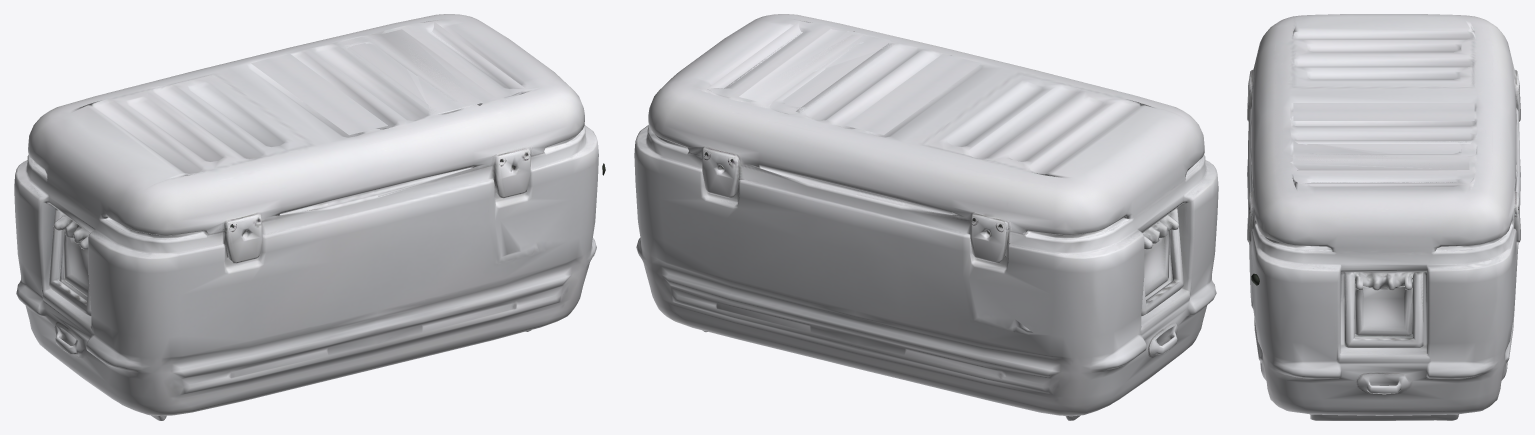
File: White_Igloo_cooler_20InchesTall_0222030005_texture.glb
3 views of the same model, side by side, from view 1: azimuth 30°, elevation 25°; view 2: azimuth 150°, elevation 25°; view 3: azimuth 270°, elevation 25° (orthographic). The views are drawn at different scales.
Visible parts, largest first — view 1: Mesh_0; view 2: Mesh_0; view 3: Mesh_0.
Boxes of the visible parts, x1=… form: Mesh_0: x1=14, y1=14, x2=605, y2=420; Mesh_0: x1=634, y1=14, x2=1218, y2=420; Mesh_0: x1=1247, y1=14, x2=1520, y2=420.
Bounding box in the file's own units: 1.04 × 0.508 × 0.5443.
1 material, 1 textured.
